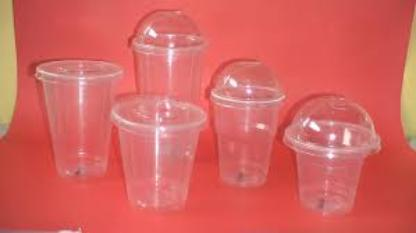Plastic Cup: (284, 95, 380, 214), (34, 58, 122, 183), (113, 97, 205, 209), (208, 62, 284, 186)
